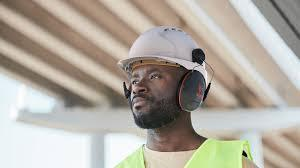Ear_protector: (176, 65, 211, 116)
Hard_hat: (114, 12, 212, 83)
Humans: (89, 55, 260, 168)
Vest: (118, 139, 254, 168)
